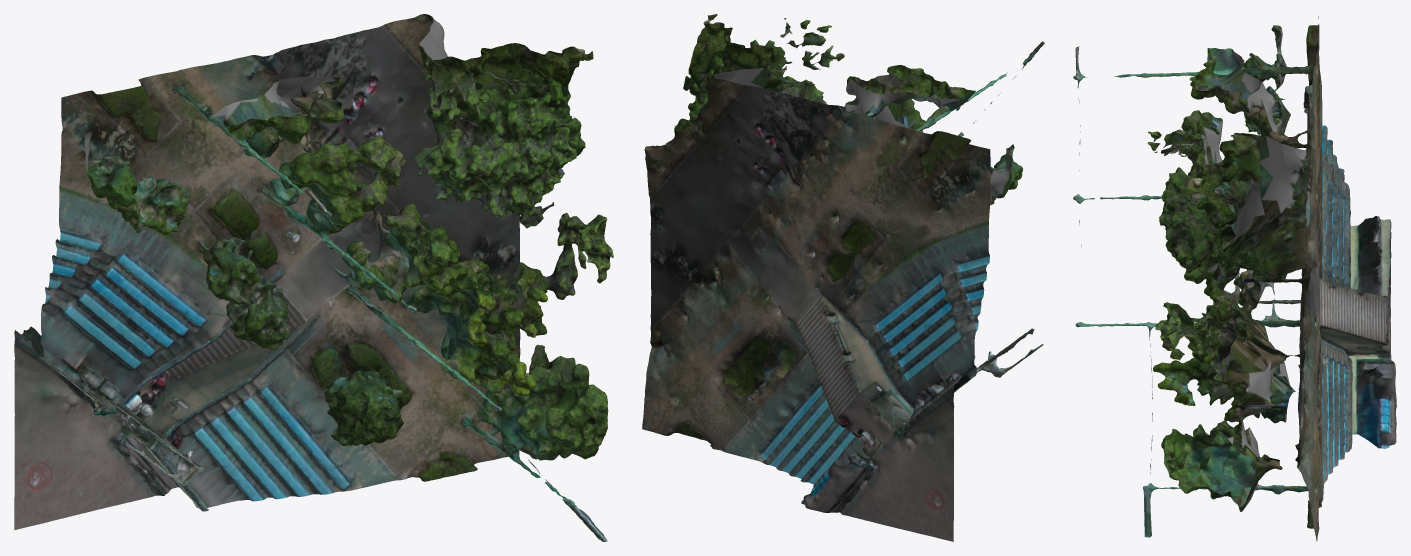
The model's file is Tile_+017_+010.fbx.
3 renders of one model, left to right at view 1: azimuth 30°, elevation 25°; view 2: azimuth 150°, elevation 25°; view 3: azimuth 270°, elevation 25°, orthographic. The views are drawn at different scales.
Visible parts, largest first — view 1: DefaultName; view 2: DefaultName; view 3: DefaultName.
Part boxes in pixels (<box>): DefaultName: <box>14,14,613,541</box>; DefaultName: <box>642,14,1044,541</box>; DefaultName: <box>1073,16,1396,541</box>.
Bounding box in the file's own units: 22.54 × 22.54 × 18.37.
